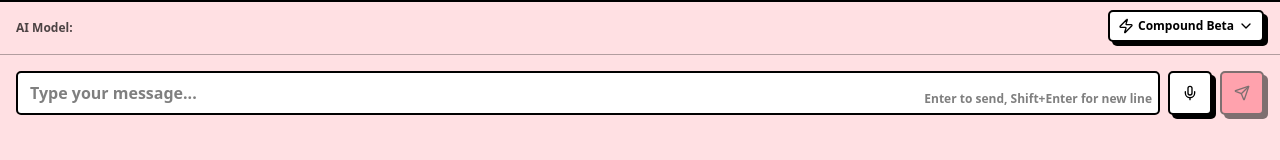
Test: MessageInput › enables send button when message has content
This screenshot has width=1280, height=160.
Type "Hello" into the text box with placeholder "Type your message..." at (588, 93), box [16,71,1160,115]
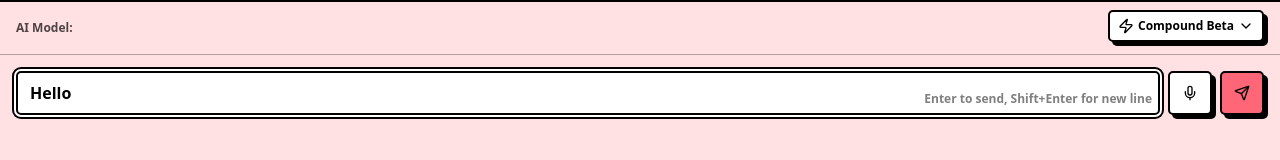
Now the button named "Send message" is enabled, box [1220,71,1264,115]
